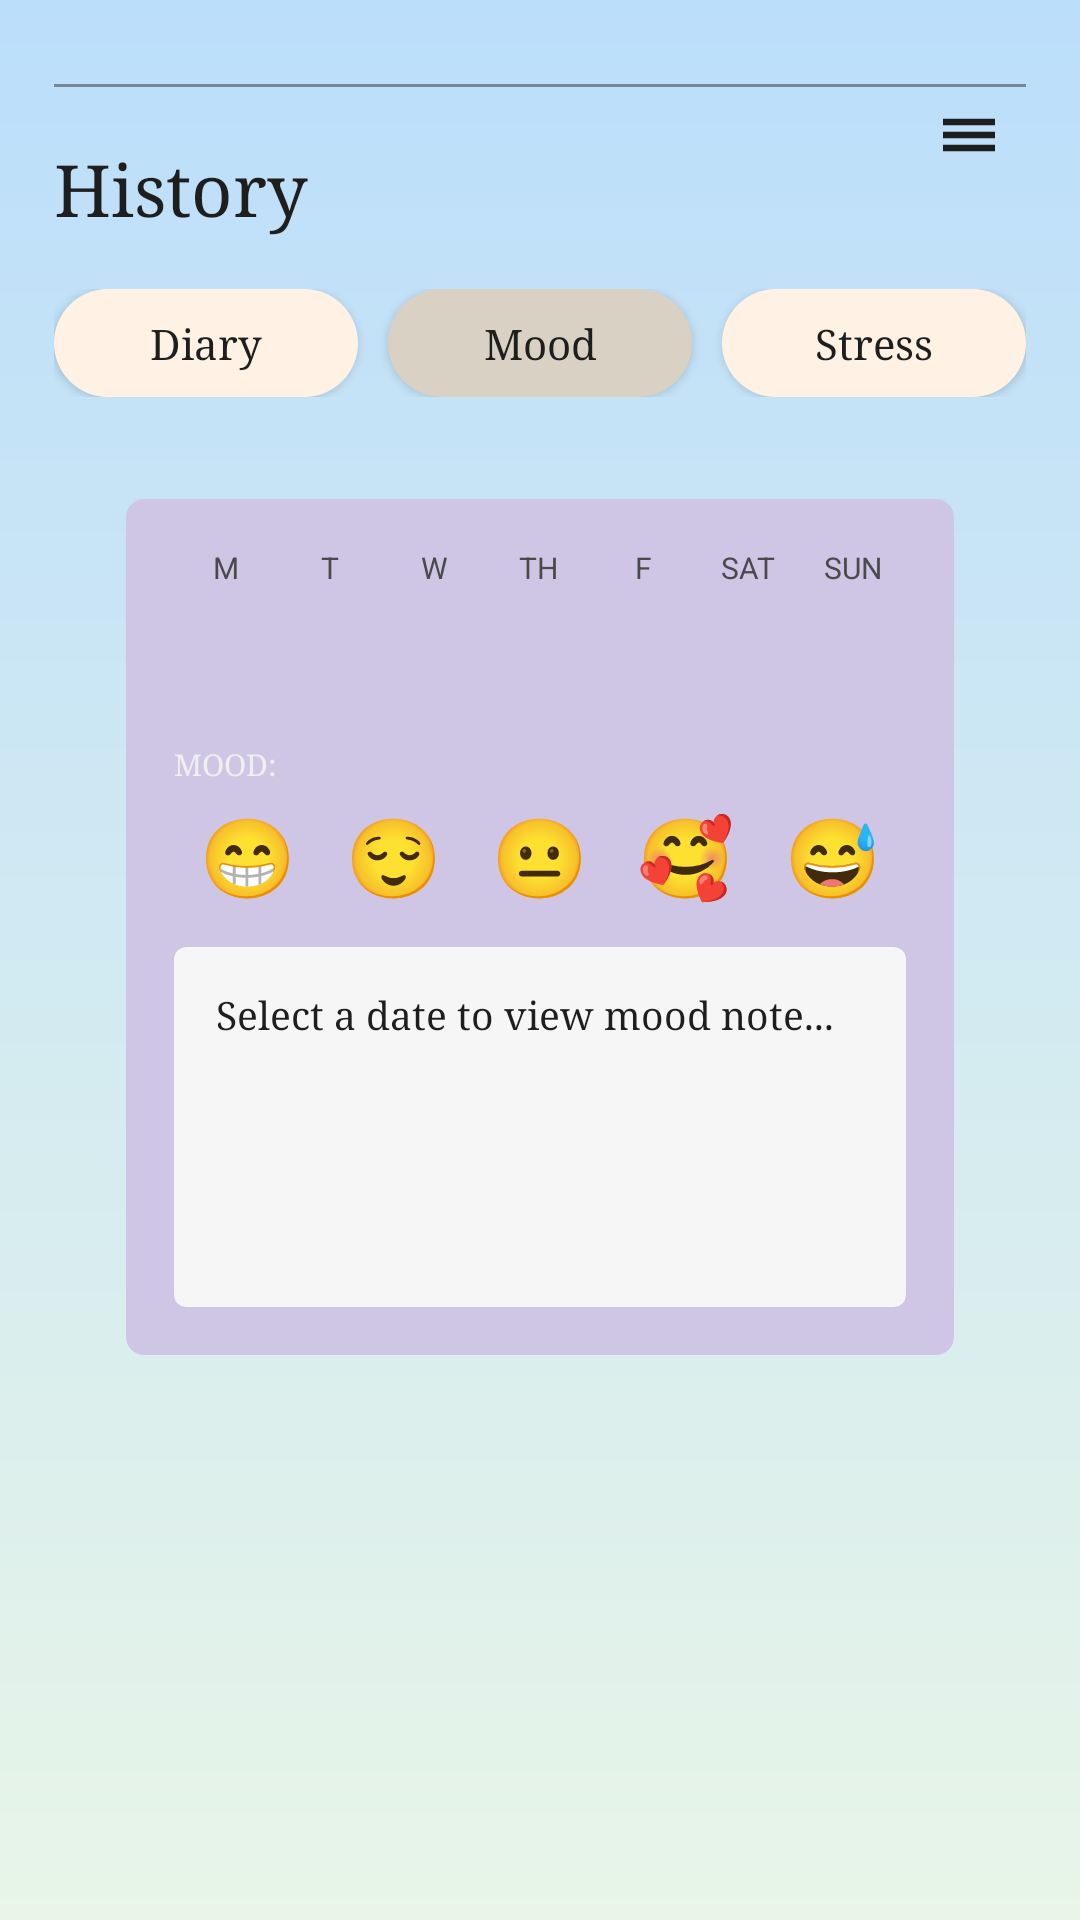

Screen size 1080*1920. Icon name, then its box in pixels as (left=x1, top=y1, right=x2, bottom=y2):
Menu: (left=943, top=118, right=995, bottom=152)
